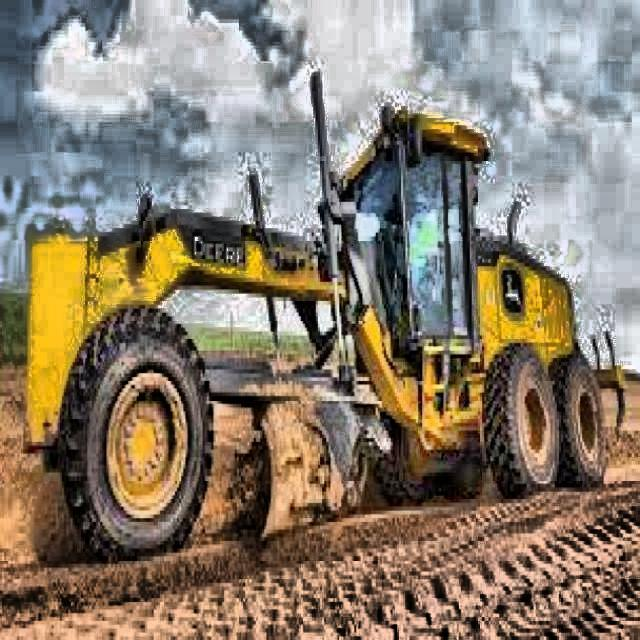bull_dozer/loader/grader: (22, 70, 630, 566)
person: (409, 188, 439, 288)
